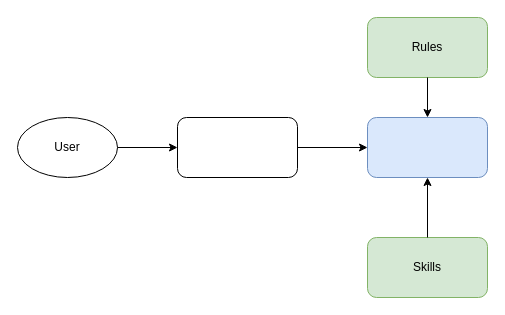
This 505x315 diagram has some shape labels left out. The centre of each missing label's shape, as x and y in pixels:
"Claude" belongs at pixel 427 147.
"script.sh" belongs at pixel 237 147.
